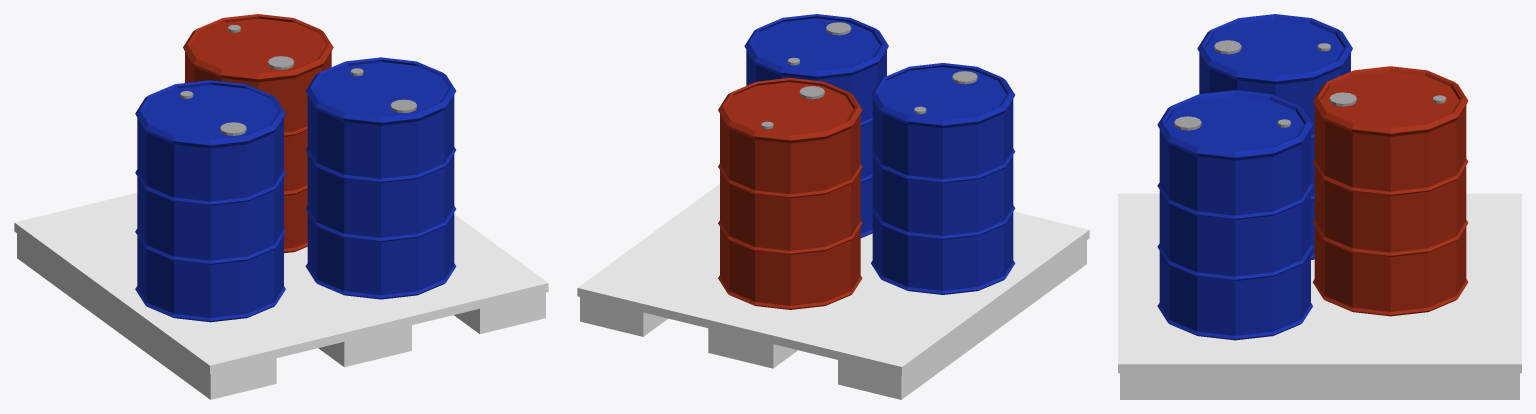
Rendered from DrumOnPlastic2_3.fbx.
3 renders of one model, left to right at view 1: azimuth 30°, elevation 25°; view 2: azimuth 150°, elevation 25°; view 3: azimuth 270°, elevation 25°, orthographic. The views are drawn at different scales.
Visible parts, largest first — view 1: Cube.001; view 2: Cube.001; view 3: Cube.001.
Part boxes in pixels (<box>): Cube.001: <box>14,14,548,399</box>; Cube.001: <box>577,14,1089,399</box>; Cube.001: <box>1118,14,1521,399</box>.
Size of the model in its own units: 200 by 122 by 200.
